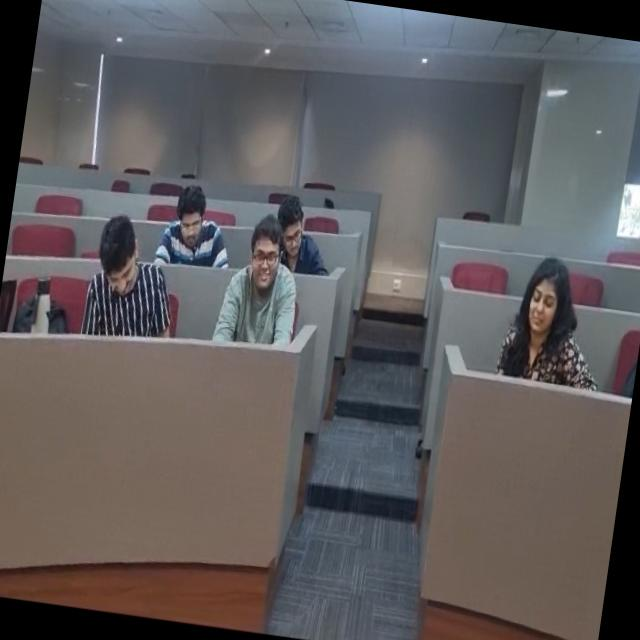cheating: (224, 225, 294, 326)
non-cheating: (82, 211, 175, 336), (154, 160, 237, 268), (494, 268, 584, 365), (268, 175, 328, 269)
